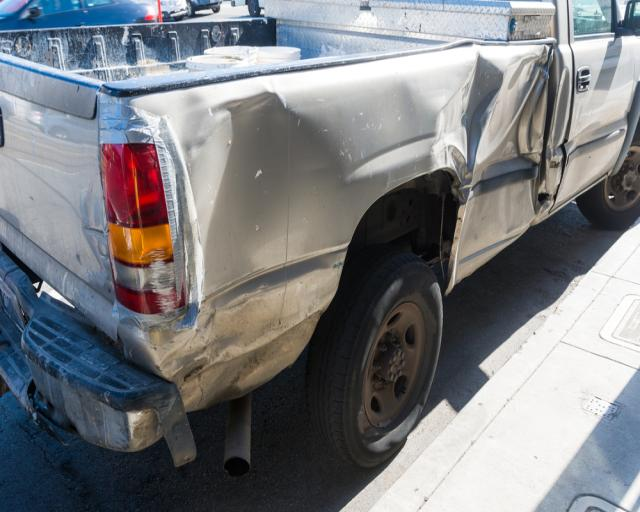dent: (153, 42, 553, 403), (566, 91, 611, 196), (547, 69, 572, 196)
scratch: (145, 245, 176, 318)
